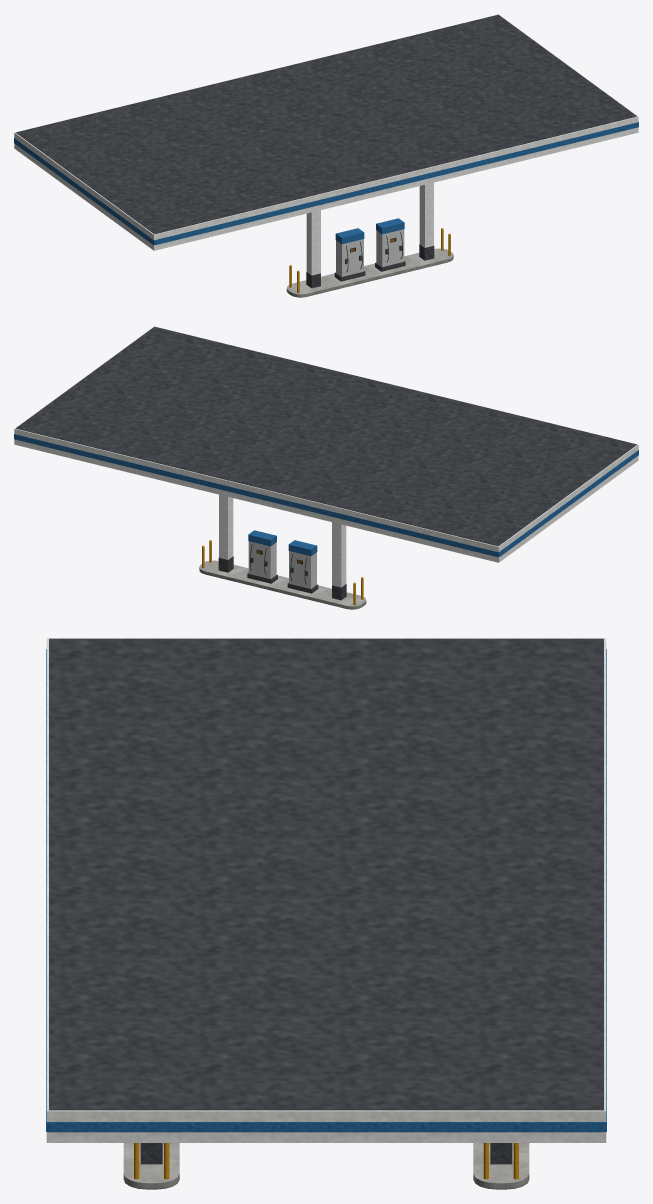
File: gas-station-canopy.glb
3 renders of one model, top to bottom at view 1: azimuth 30°, elevation 25°; view 2: azimuth 150°, elevation 25°; view 3: azimuth 270°, elevation 25°, orthographic. The views are drawn at different scales.
Parts seen in each view (by area): view 1: Canopy deck and fascia, Fuel dispensers, Pump islands and bollards; view 2: Canopy deck and fascia, Fuel dispensers, Pump islands and bollards; view 3: Canopy deck and fascia, Pump islands and bollards.
Boxes of the visible parts, box(x1,y1,x2,y2) form: Canopy deck and fascia: box(14, 14, 638, 288); Fuel dispensers: box(334, 218, 405, 281); Pump islands and bollards: box(286, 228, 453, 297); Canopy deck and fascia: box(14, 326, 638, 600); Fuel dispensers: box(247, 530, 318, 593); Pump islands and bollards: box(199, 540, 366, 609); Canopy deck and fascia: box(46, 638, 606, 1164); Pump islands and bollards: box(123, 1143, 529, 1189).
Bounding box in the file's own units: 24.02 × 5.6 × 12.02.
Materials: 11 (11 with a texture image).
